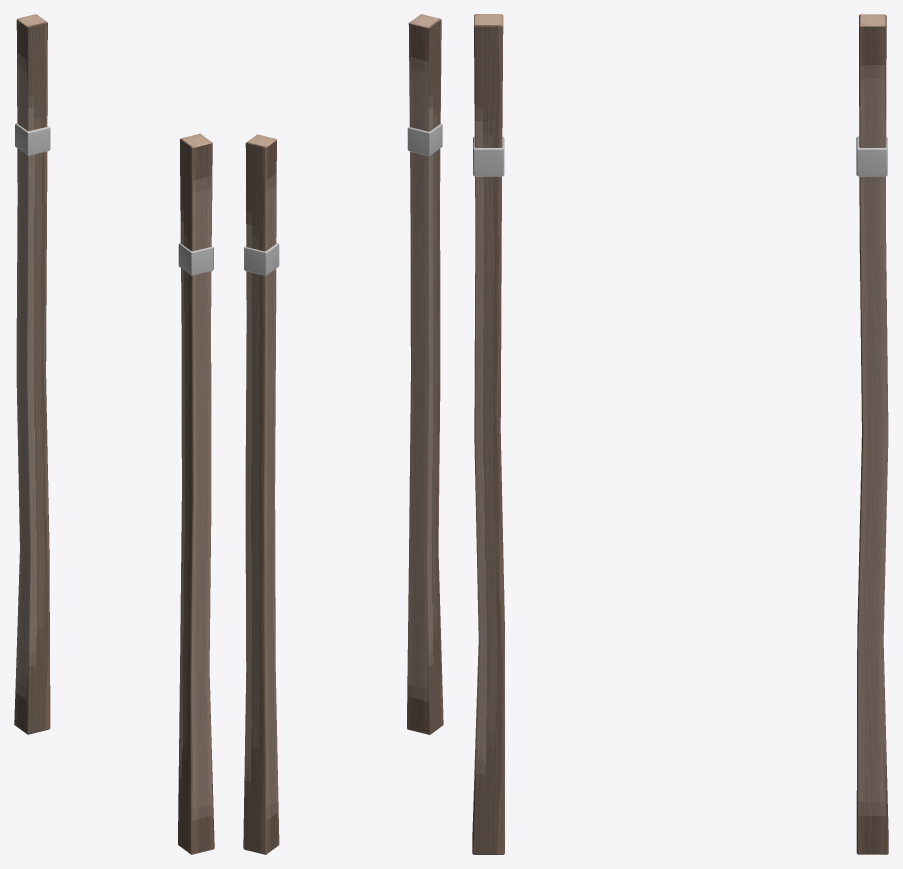
Rendered from SM_BellPosts.fbx.
3 renders of one model, left to right at view 1: azimuth 30°, elevation 25°; view 2: azimuth 150°, elevation 25°; view 3: azimuth 270°, elevation 25°, orthographic. The views are drawn at different scales.
Visible parts, largest first — view 1: SM_BellPosts_LOD0; view 2: SM_BellPosts_LOD0; view 3: SM_BellPosts_LOD0.
Part boxes in pixels (bbox=[...]): SM_BellPosts_LOD0: bbox=[14, 14, 214, 854]; SM_BellPosts_LOD0: bbox=[243, 14, 443, 854]; SM_BellPosts_LOD0: bbox=[472, 14, 888, 854].
Bounding box in the file's own units: 35.81 × 455 × 1000.
